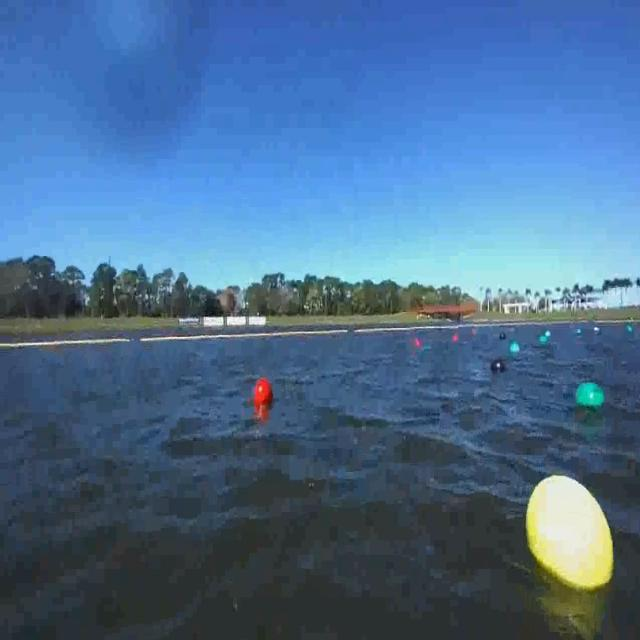black-buoy: (491, 358, 506, 373)
green-buoy: (575, 381, 604, 408), (512, 342, 520, 355)
red-buoy: (257, 376, 275, 404)
yellow-buoy: (522, 470, 617, 600)
